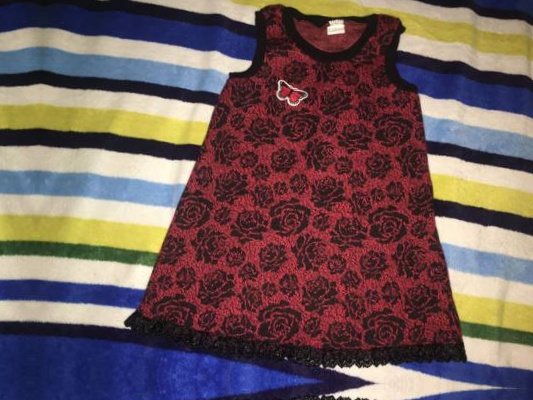Dress: (109, 1, 477, 374), (95, 388, 463, 400)
